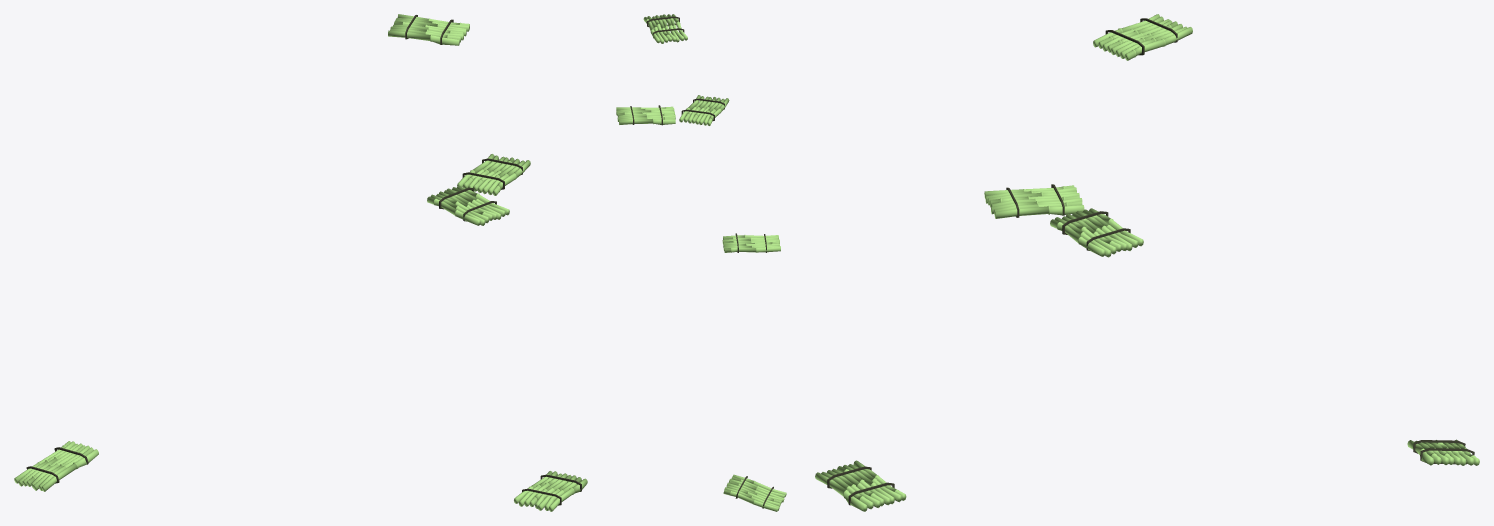
Rendered from platforme bambou petit.fbx.
3 views of the same model, side by side, from view 1: azimuth 30°, elevation 25°; view 2: azimuth 150°, elevation 25°; view 3: azimuth 270°, elevation 25° (orthographic). The views are drawn at different scales.
Visible parts, largest first — view 1: MSH_platforme_bambou_petite_02__3_, MSH_platforme_bambou_petite_02, MSH_platforme_bambou_petite_02__1_, MSH_platforme_bambou_petite_02__4_, MSH_platforme_bambou_petite_02__2_; view 2: MSH_platforme_bambou_petite_02__3_, MSH_platforme_bambou_petite_02__1_, MSH_platforme_bambou_petite_02__2_, MSH_platforme_bambou_petite_02, MSH_platforme_bambou_petite_02__4_; view 3: MSH_platforme_bambou_petite_02, MSH_platforme_bambou_petite_02__1_, MSH_platforme_bambou_petite_02__4_, MSH_platforme_bambou_petite_02__2_, MSH_platforme_bambou_petite_02__3_.
Boxes of the visible parts, x1=… form: MSH_platforme_bambou_petite_02__3_: x1=14, y1=441, x2=98, y2=491; MSH_platforme_bambou_petite_02: x1=427, y1=185, x2=509, y2=225; MSH_platforme_bambou_petite_02__1_: x1=457, y1=154, x2=530, y2=195; MSH_platforme_bambou_petite_02__4_: x1=388, y1=14, x2=469, y2=45; MSH_platforme_bambou_petite_02__2_: x1=514, y1=471, x2=587, y2=511; MSH_platforme_bambou_petite_02__3_: x1=723, y1=474, x2=786, y2=511; MSH_platforme_bambou_petite_02__1_: x1=616, y1=105, x2=675, y2=125; MSH_platforme_bambou_petite_02__2_: x1=722, y1=233, x2=780, y2=252; MSH_platforme_bambou_petite_02: x1=679, y1=95, x2=729, y2=125; MSH_platforme_bambou_petite_02__4_: x1=643, y1=14, x2=687, y2=43; MSH_platforme_bambou_petite_02: x1=984, y1=184, x2=1084, y2=218; MSH_platforme_bambou_petite_02__1_: x1=1050, y1=208, x2=1143, y2=257; MSH_platforme_bambou_petite_02__4_: x1=1093, y1=14, x2=1192, y2=60; MSH_platforme_bambou_petite_02__2_: x1=815, y1=460, x2=906, y2=511; MSH_platforme_bambou_petite_02__3_: x1=1407, y1=439, x2=1479, y2=465.
Size of the model in its own units: 19.04 by 24.28 by 25.13.
